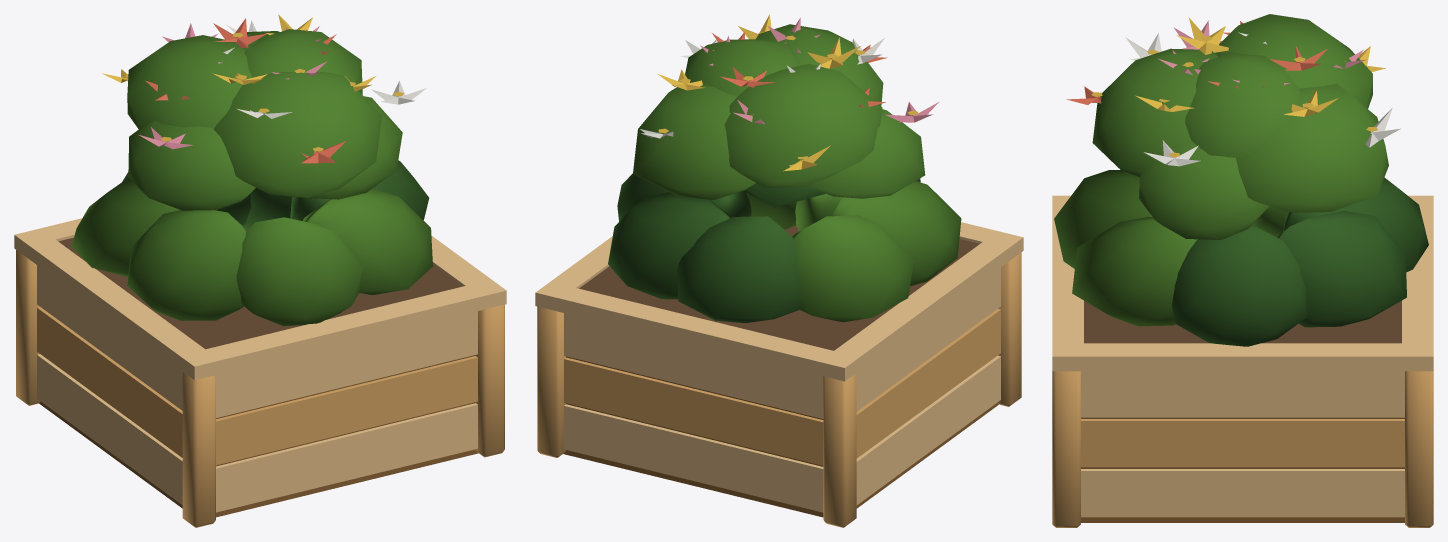
File: planter_square.glb
3 views of the same model, side by side, from view 1: azimuth 30°, elevation 25°; view 2: azimuth 150°, elevation 25°; view 3: azimuth 270°, elevation 25° (orthographic). The views are drawn at different scales.
Visible parts, largest first — view 1: body; view 2: body; view 3: body.
Boxes of the visible parts, <box> form: body: <box>14,14,506,527</box>; body: <box>535,14,1023,527</box>; body: <box>1052,14,1433,527</box>.
Size of the model in its own units: 1.2 by 1.4 by 1.2.
